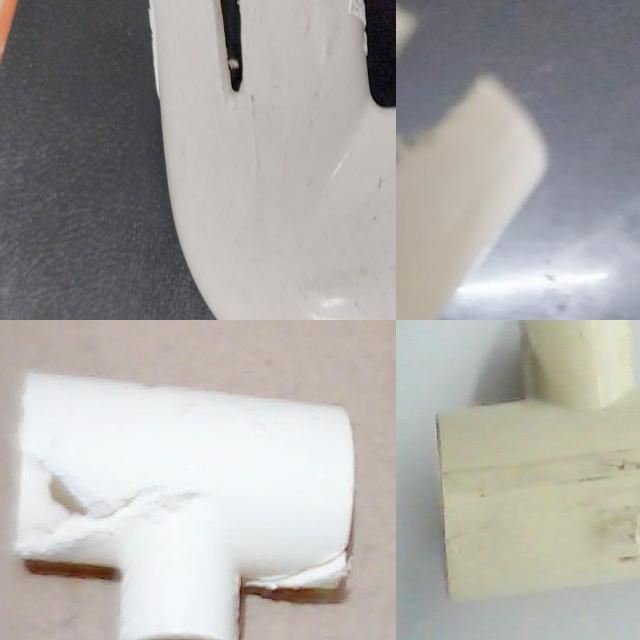Defective: (396, 1, 481, 212), (258, 534, 345, 604), (221, 0, 268, 124), (225, 0, 267, 121), (224, 0, 266, 32)
T Joint: (16, 372, 356, 640), (434, 320, 640, 607)
